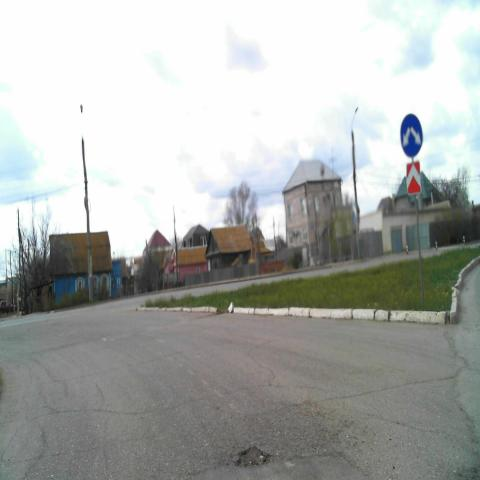4_2_3: (400, 112, 424, 159)
